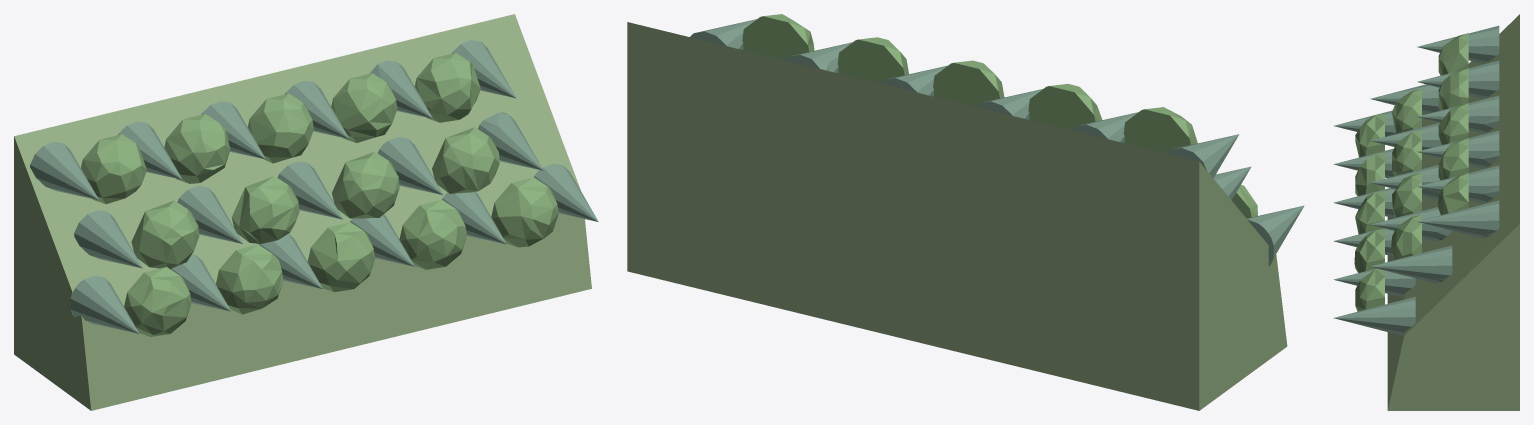
The model's file is r-12-bystrc-wooded-ridge.lod1.glb.
The picture shows the model from 3 angles, left to right: view 1: azimuth 30°, elevation 25°; view 2: azimuth 150°, elevation 25°; view 3: azimuth 270°, elevation 25°; orthographic projection. The views are drawn at different scales.
Visible parts, largest first — view 1: hill, broadleaf-trees, pines; view 2: hill, broadleaf-trees, pines; view 3: hill, pines, broadleaf-trees.
Part boxes in pixels (bbox=[...]): hill: bbox=[14, 14, 591, 410]; broadleaf-trees: bbox=[81, 53, 558, 336]; pines: bbox=[30, 40, 598, 333]; hill: bbox=[627, 22, 1287, 410]; broadleaf-trees: bbox=[742, 14, 1257, 218]; pines: bbox=[690, 19, 1304, 266]; hill: bbox=[1387, 14, 1519, 410]; pines: bbox=[1333, 25, 1499, 335]; broadleaf-trees: bbox=[1354, 33, 1468, 311].
Size of the model in its own units: 60523 by 25615 by 22611.
